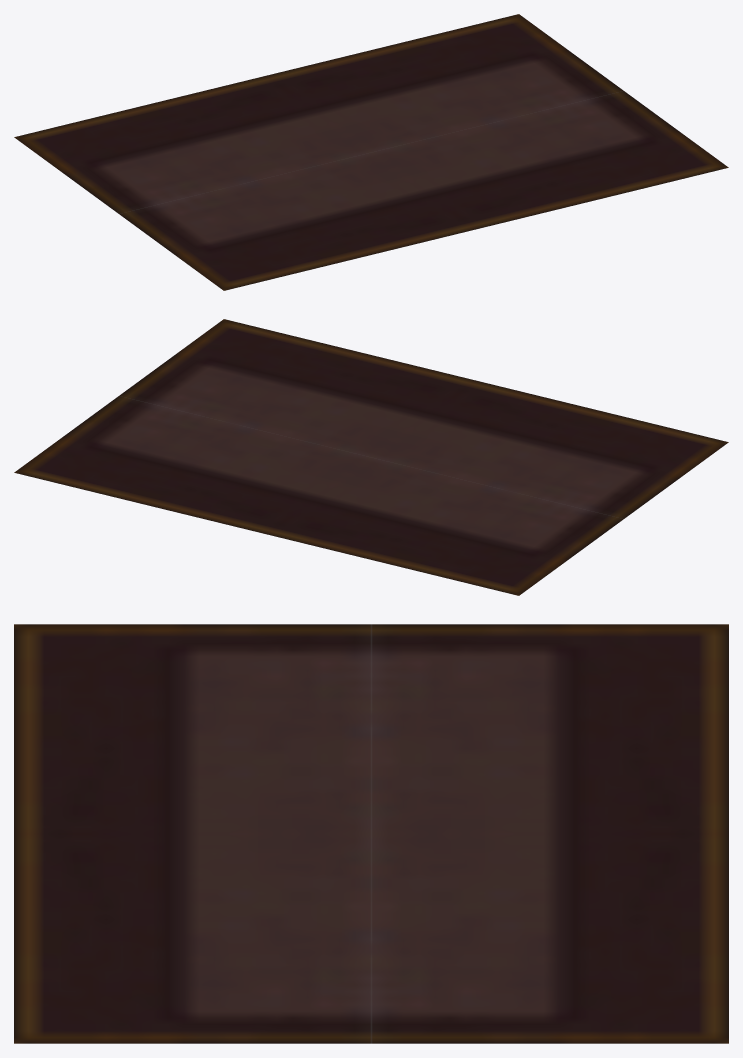
Rendered from Cover_3B.fbx.
3 renders of one model, top to bottom at view 1: azimuth 30°, elevation 25°; view 2: azimuth 150°, elevation 25°; view 3: azimuth 270°, elevation 25°, orthographic. The views are drawn at different scales.
Visible parts, largest first — view 1: polySurface7537; view 2: polySurface7537; view 3: polySurface7537.
Boxes of the visible parts, bbox=[...] form: polySurface7537: bbox=[14, 14, 728, 290]; polySurface7537: bbox=[14, 319, 728, 595]; polySurface7537: bbox=[14, 624, 728, 1043].
Bounding box in the file's own units: 1.67 × 0 × 1.2.
